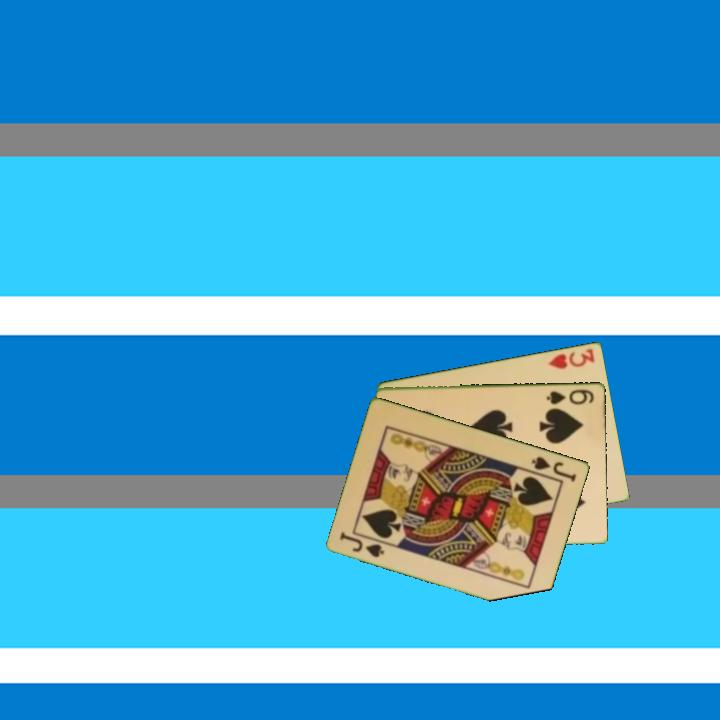3h: (545, 345, 598, 372)
6s: (544, 385, 597, 407)
Js: (528, 453, 580, 485), (337, 528, 388, 560)
